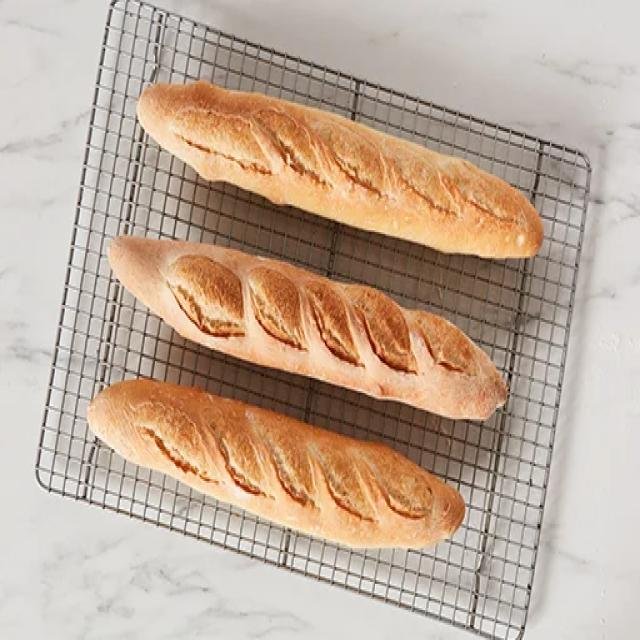Baguette: (110, 236, 506, 419), (138, 80, 541, 256), (89, 378, 464, 546)
